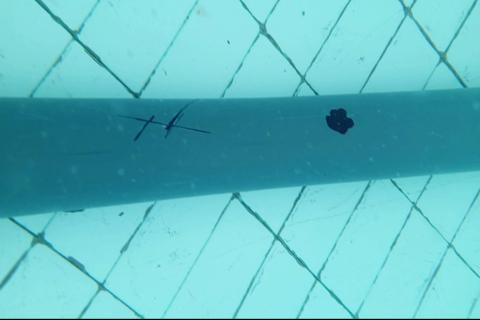kebocoran: (324, 105, 356, 135)
keretakan: (114, 100, 211, 144)
